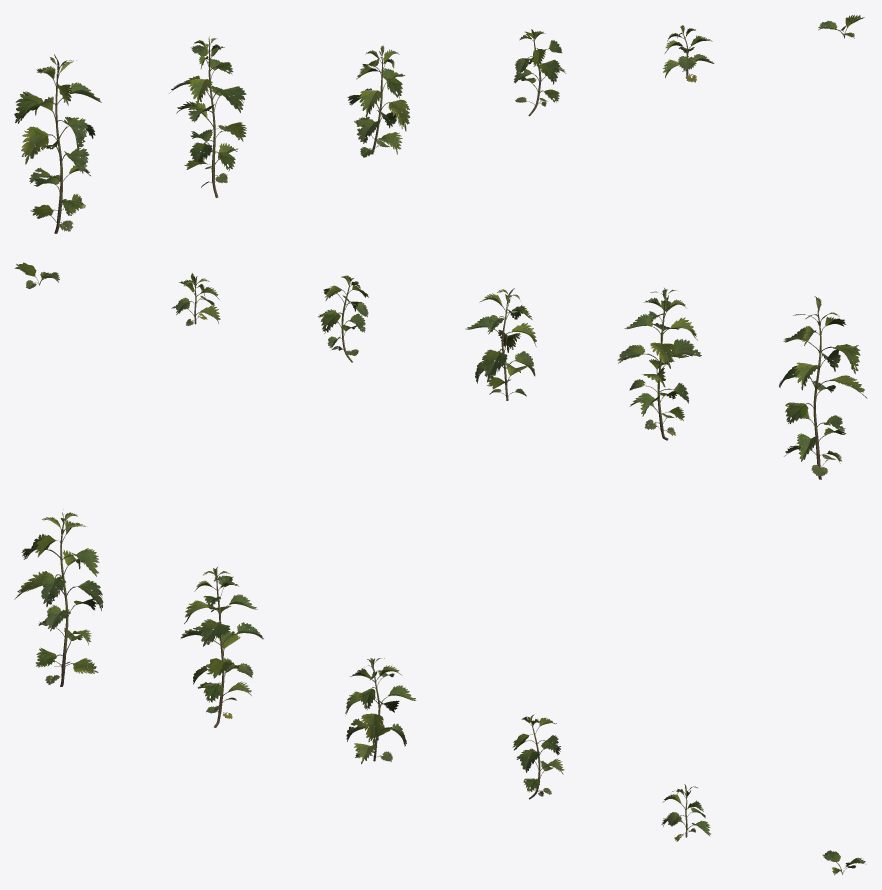
File: nettle_plant.glb
3 views of the same model, one above another, from view 1: azimuth 30°, elevation 25°; view 2: azimuth 150°, elevation 25°; view 3: azimuth 330°, elevation 25° (orthographic).
Parts seen in each view (by area): view 1: nettle_plant_tall_a_LOD0, nettle_plant_tall_b_LOD0, nettle_plant_medium_a_LOD0, nettle_plant_medium_b_LOD0, nettle_plant_small_a_LOD0; view 2: nettle_plant_tall_a_LOD0, nettle_plant_tall_b_LOD0, nettle_plant_medium_a_LOD0, nettle_plant_medium_b_LOD0, nettle_plant_small_a_LOD0; view 3: nettle_plant_tall_a_LOD0, nettle_plant_tall_b_LOD0, nettle_plant_medium_a_LOD0, nettle_plant_medium_b_LOD0, nettle_plant_small_a_LOD0.
Part boxes in pixels (bbox=[...]): nettle_plant_tall_a_LOD0: bbox=[14, 54, 101, 233]; nettle_plant_tall_b_LOD0: bbox=[169, 36, 246, 197]; nettle_plant_medium_a_LOD0: bbox=[347, 45, 409, 157]; nettle_plant_medium_b_LOD0: bbox=[514, 29, 566, 116]; nettle_plant_small_a_LOD0: bbox=[663, 25, 714, 82]; nettle_plant_tall_a_LOD0: bbox=[779, 296, 867, 479]; nettle_plant_tall_b_LOD0: bbox=[617, 288, 701, 440]; nettle_plant_medium_a_LOD0: bbox=[465, 288, 536, 400]; nettle_plant_medium_b_LOD0: bbox=[318, 275, 368, 362]; nettle_plant_small_a_LOD0: bbox=[171, 273, 220, 325]; nettle_plant_tall_a_LOD0: bbox=[14, 509, 103, 686]; nettle_plant_tall_b_LOD0: bbox=[181, 567, 263, 727]; nettle_plant_medium_a_LOD0: bbox=[345, 658, 416, 764]; nettle_plant_medium_b_LOD0: bbox=[512, 714, 564, 799]; nettle_plant_small_a_LOD0: bbox=[661, 784, 710, 841].
Size of the model in its own units: 2 by 0.4034 by 0.1749.
Materials: 1 (1 with a texture image).
